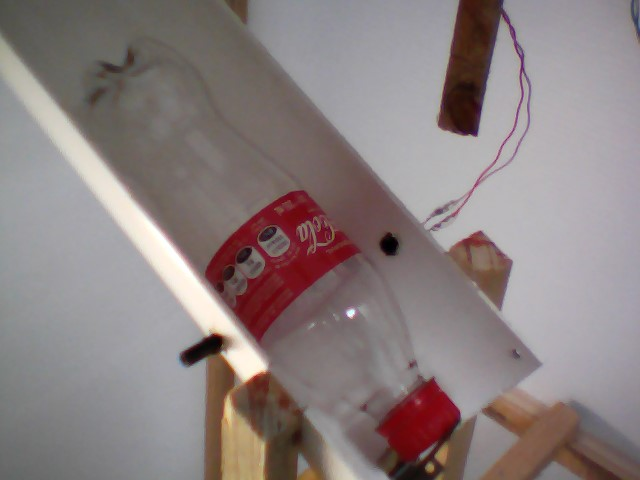plastico: (74, 35, 470, 467)
